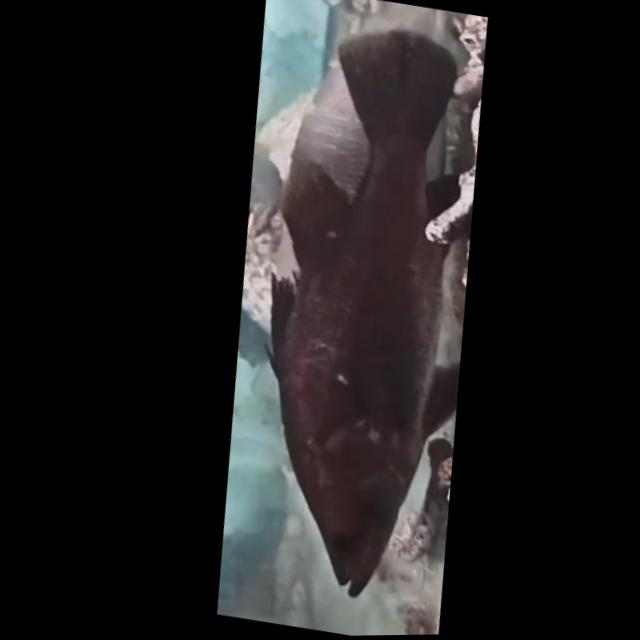Seabass: (186, 9, 539, 617)
